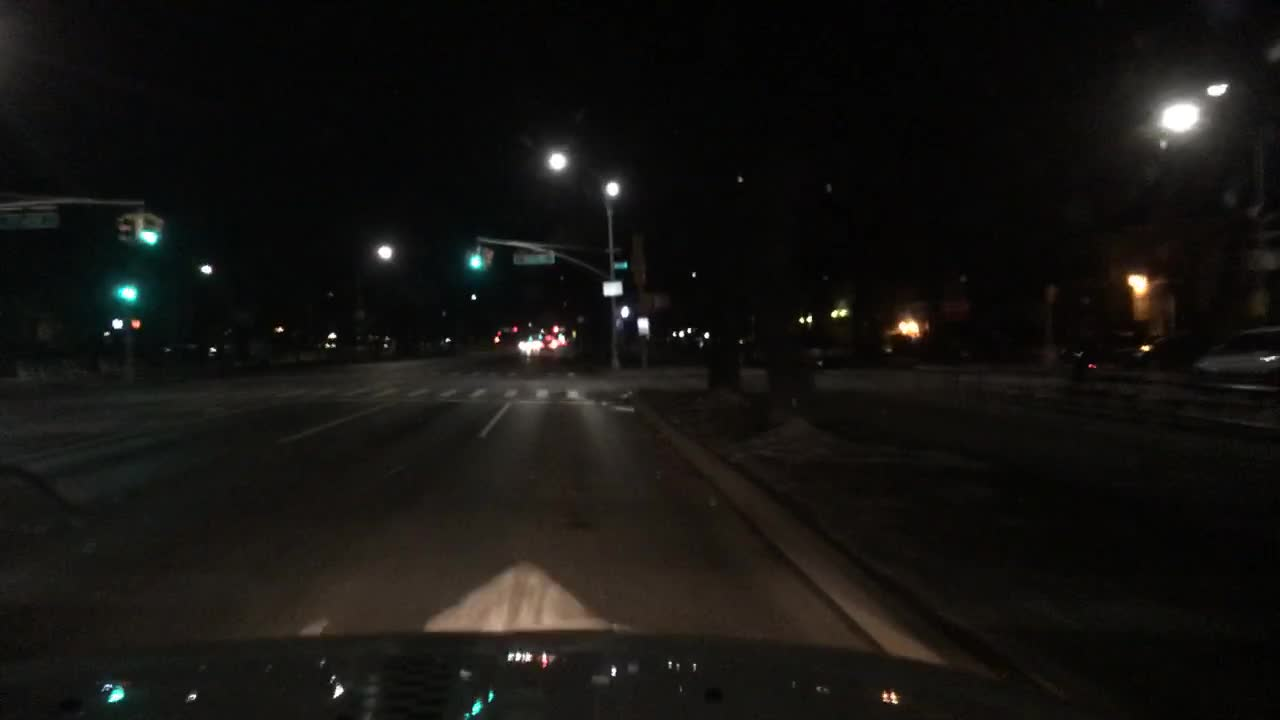car: (1072, 322, 1207, 379), (1194, 325, 1280, 380), (514, 335, 548, 355)
traffic light: (139, 214, 159, 248), (116, 213, 133, 248), (117, 279, 134, 307), (470, 245, 481, 273), (616, 302, 629, 322), (484, 245, 493, 271), (109, 317, 125, 331), (128, 316, 140, 331)
traffic sign: (0, 210, 57, 233), (509, 248, 555, 267), (601, 281, 622, 297), (610, 257, 632, 271)
